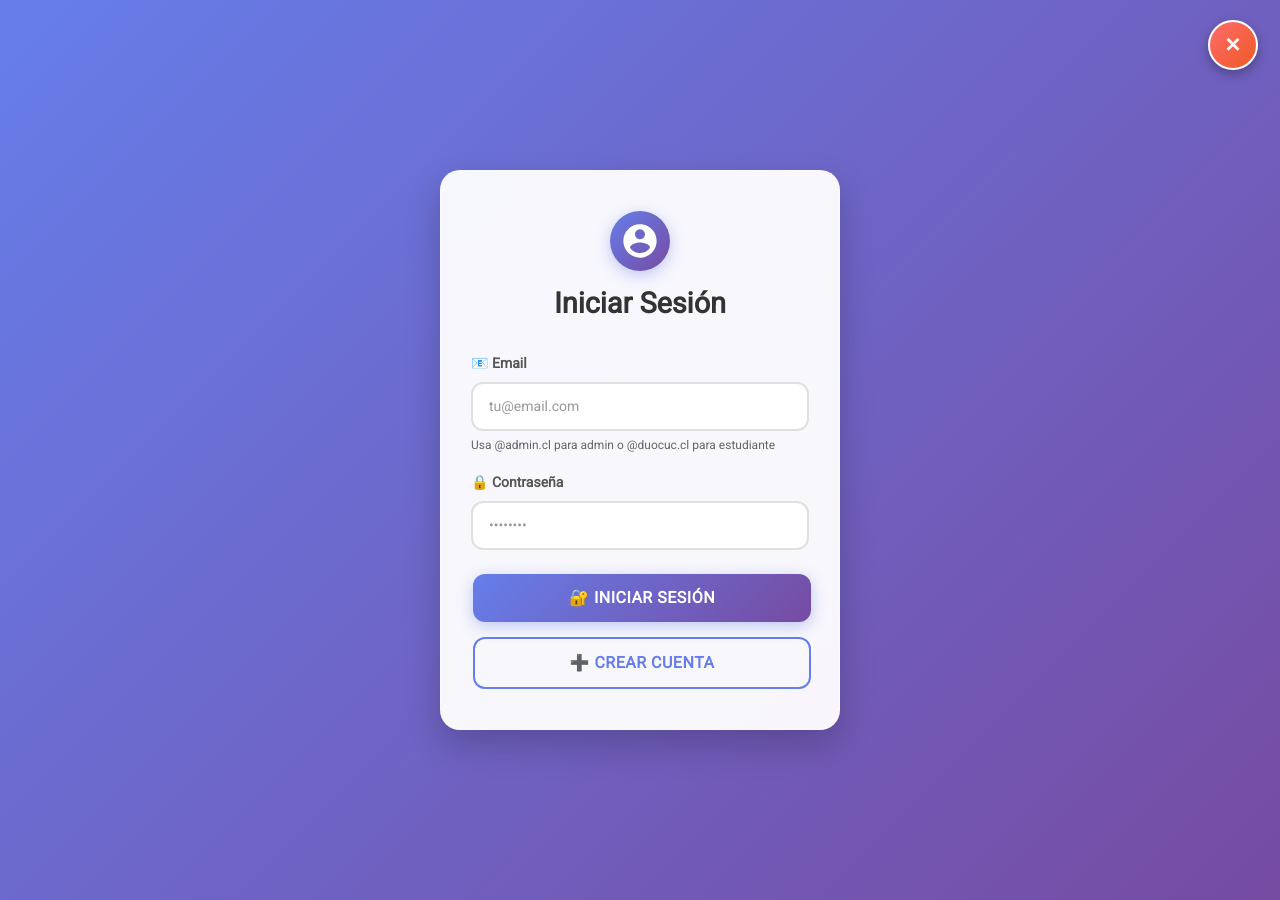
Scenario: Login Component › Flujos completos › usuario puede cambiar entre campos de email y password
Type "usuario" into the field with placeholder "tu@email.com" at (640, 406), box top-left (471, 382), bottom-right (809, 431)
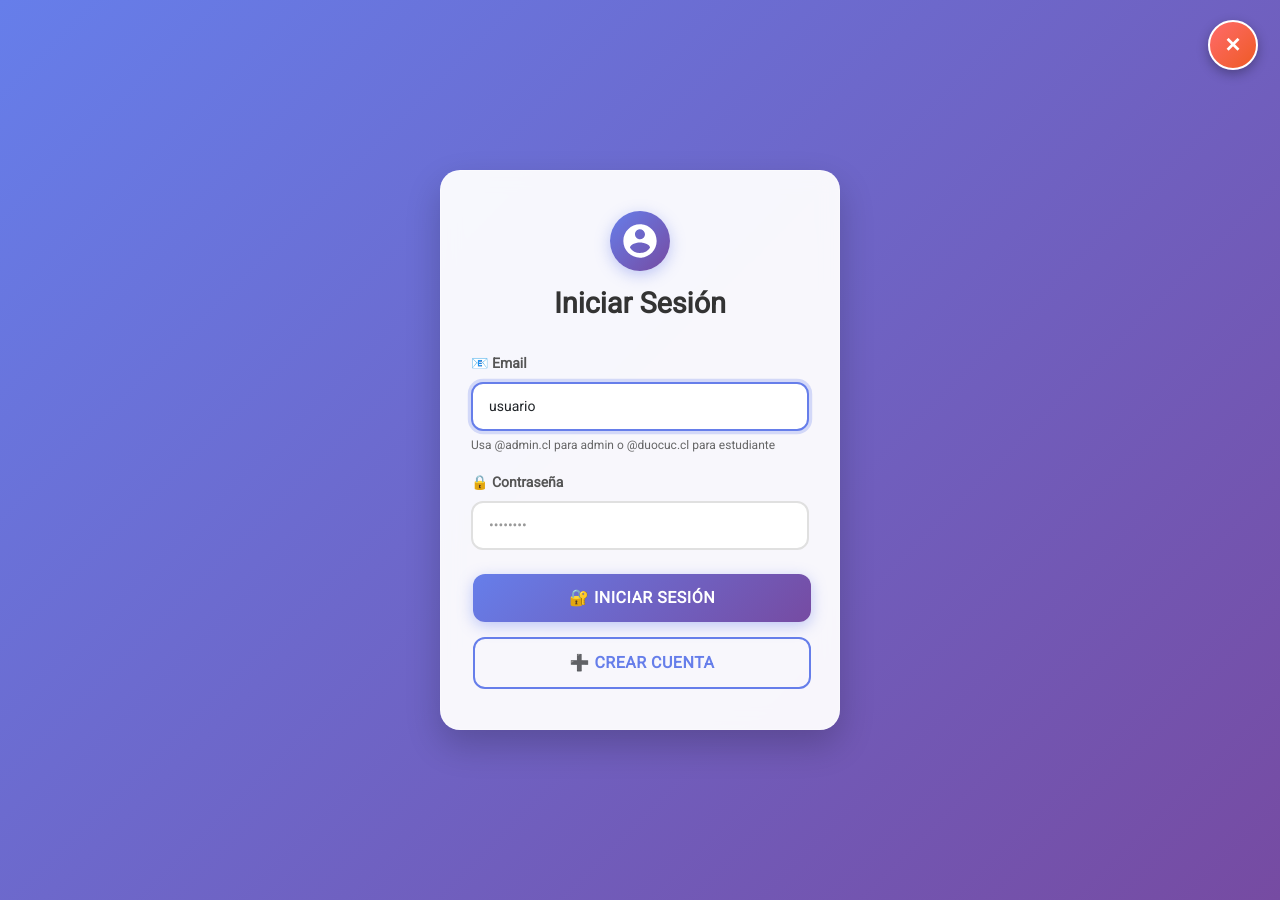
Type "pass1" into the password field with placeholder "••••••••" at (640, 525), box top-left (471, 501), bottom-right (809, 550)
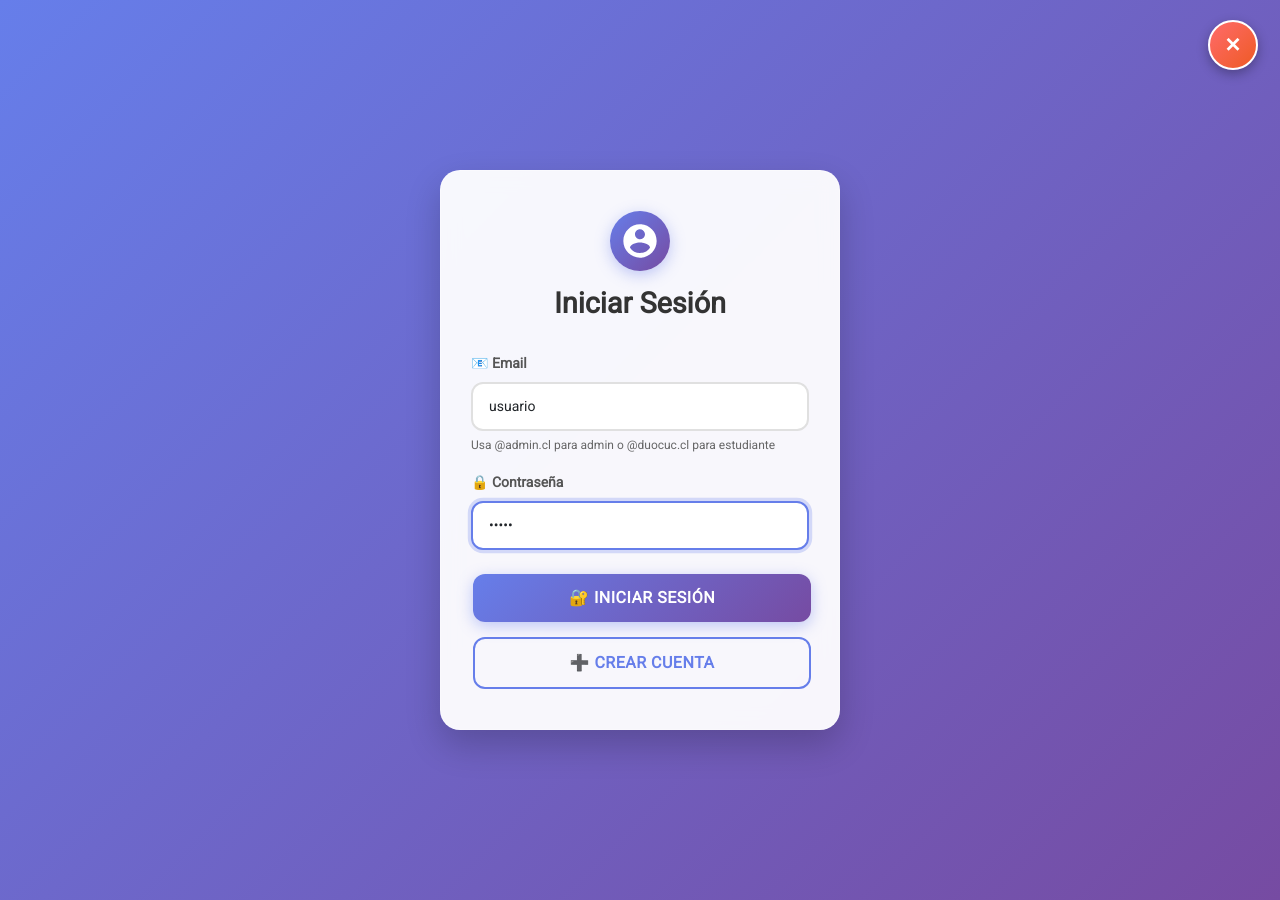
Type "@duocuc.cl" into the field with placeholder "tu@email.com" at (640, 406), box top-left (471, 382), bottom-right (809, 431)
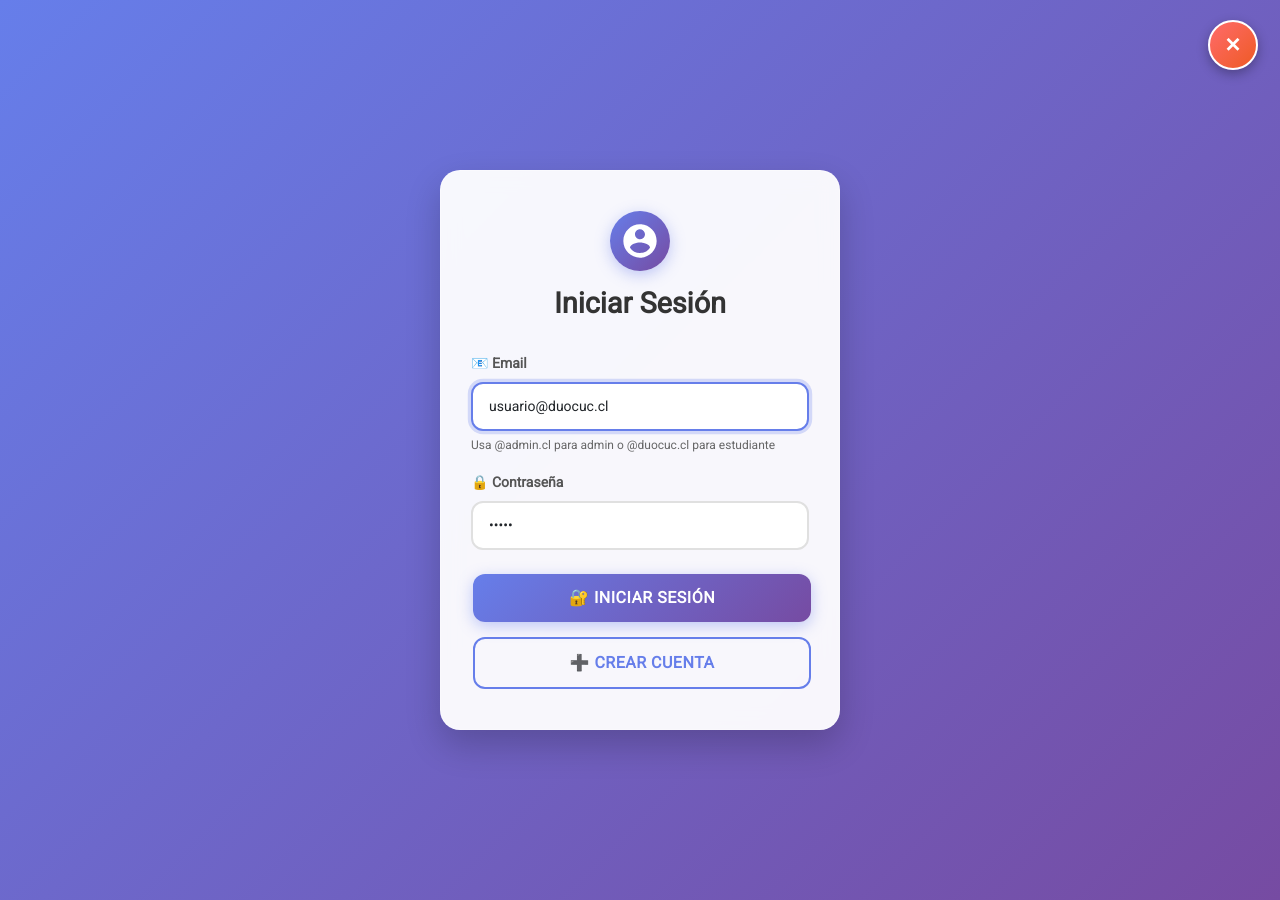
Type "234" into the password field with placeholder "••••••••" at (640, 525), box top-left (471, 501), bottom-right (809, 550)
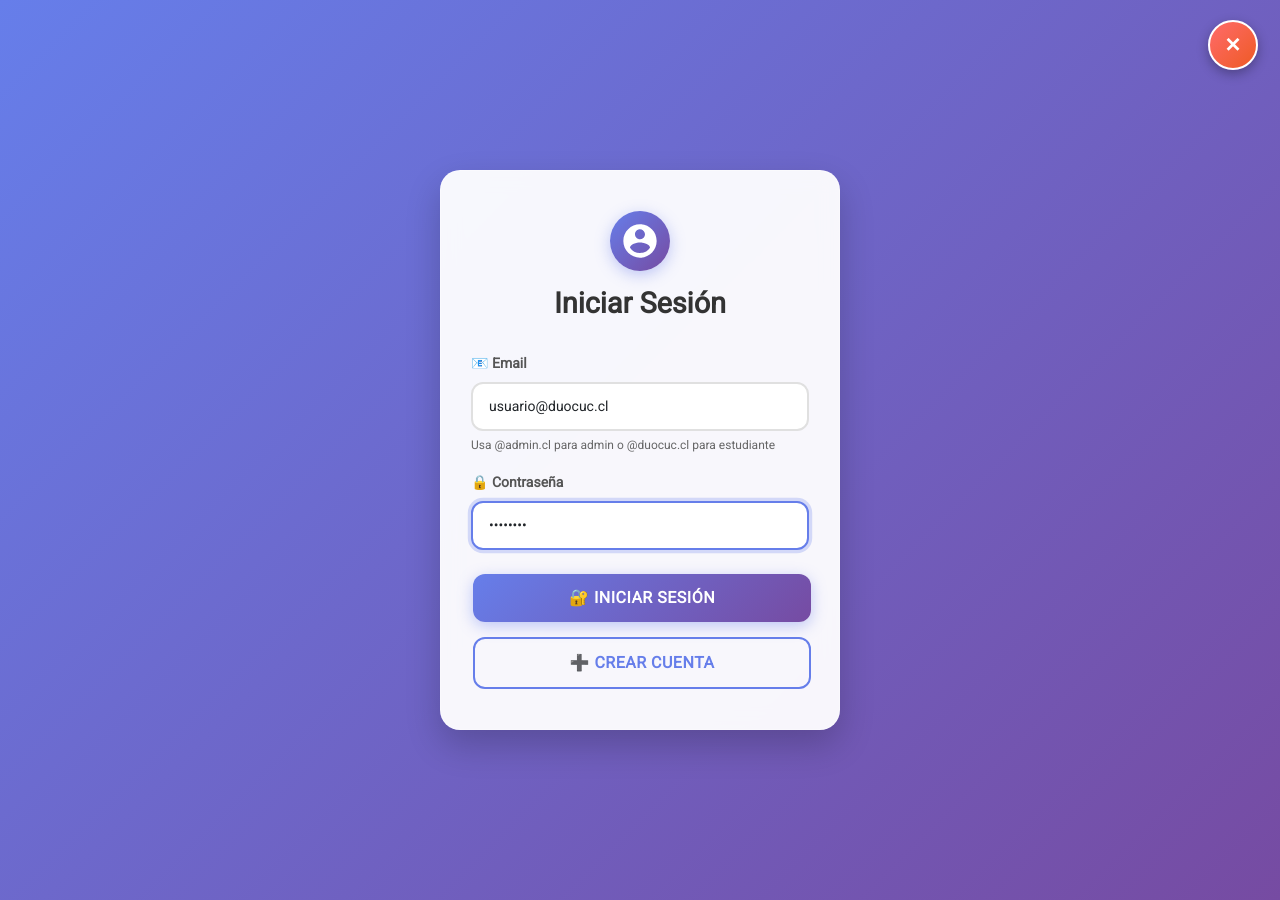
Check: the field with placeholder "tu@email.com" holds "usuario@duocuc.cl", box top-left (471, 382), bottom-right (809, 431)
Check: the password field with placeholder "••••••••" holds "pass1234", box top-left (471, 501), bottom-right (809, 550)
